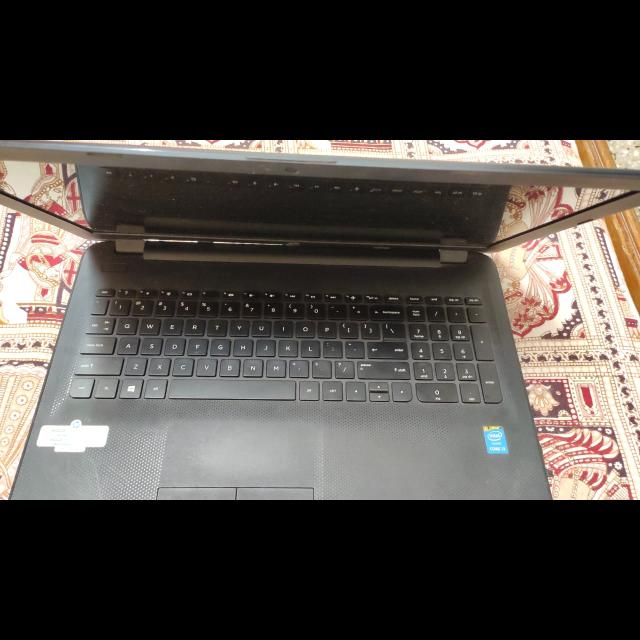Laptop: (2, 141, 638, 499)
